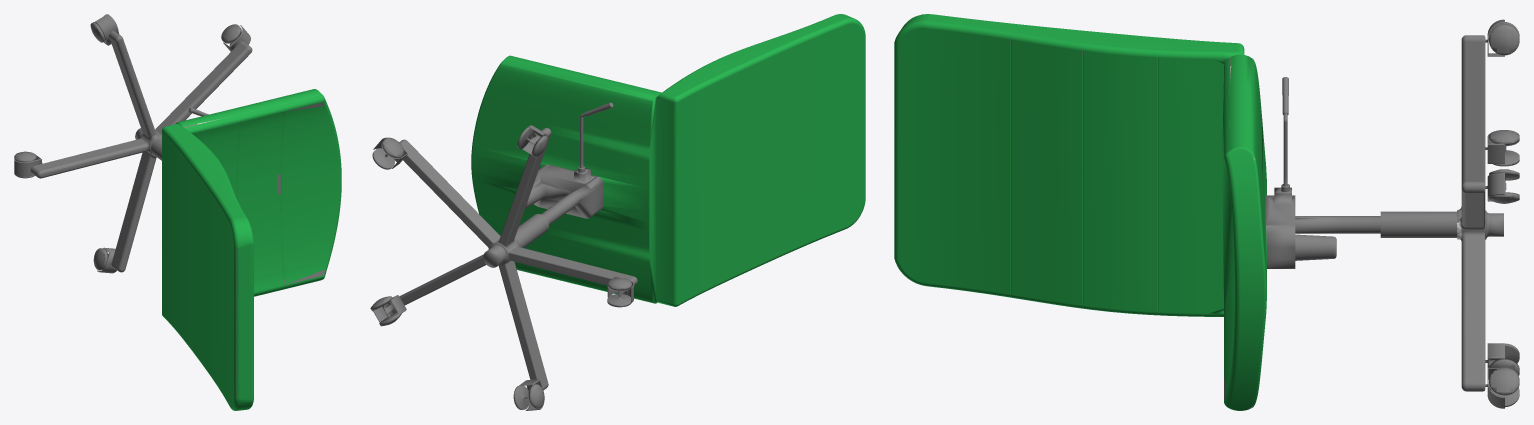
Rendered from chair_green.dae.
3 views of the same model, side by side, from view 1: azimuth 30°, elevation 25°; view 2: azimuth 150°, elevation 25°; view 3: azimuth 270°, elevation 25° (orthographic). The views are drawn at different scales.
Parts seen in each view (by area): view 1: transform1; view 2: transform1; view 3: transform1.
Part boxes in pixels (x1,y1,x2,y2): transform1: (14, 14, 341, 410); transform1: (370, 14, 865, 410); transform1: (894, 14, 1519, 410).
Size of the model in its own units: 0.6456 by 0.6765 by 1.07.
1 material, 1 textured.
